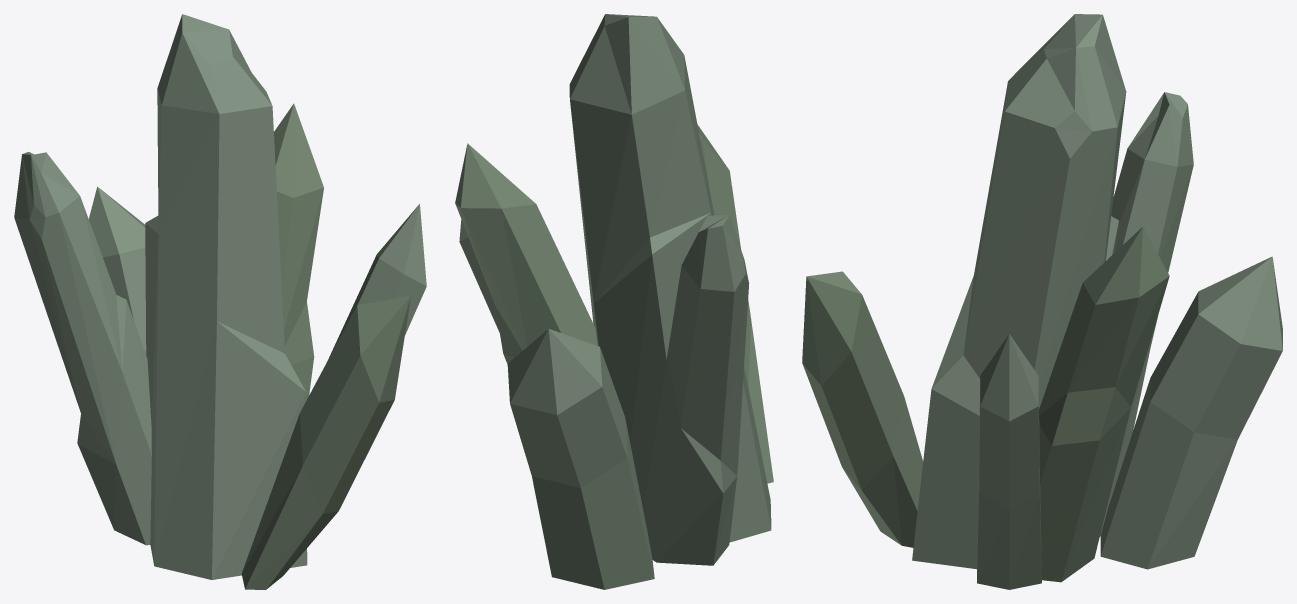
The model's file is ADDON_STONES_CRYSTAL_02_228P.OBJ.
3 views of the same model, side by side, from view 1: azimuth 30°, elevation 25°; view 2: azimuth 150°, elevation 25°; view 3: azimuth 270°, elevation 25° (orthographic). The views are drawn at different scales.
Visible parts, largest first — view 1: ADDON_STONES_CRYSTAL_02_228P; view 2: ADDON_STONES_CRYSTAL_02_228P; view 3: ADDON_STONES_CRYSTAL_02_228P.
Part boxes in pixels (box(x1,y1,x2,y2)): ADDON_STONES_CRYSTAL_02_228P: box(14, 14, 426, 589); ADDON_STONES_CRYSTAL_02_228P: box(455, 14, 773, 589); ADDON_STONES_CRYSTAL_02_228P: box(802, 14, 1282, 589).
Bounding box in the file's own units: 1.26 × 1.79 × 1.48.
